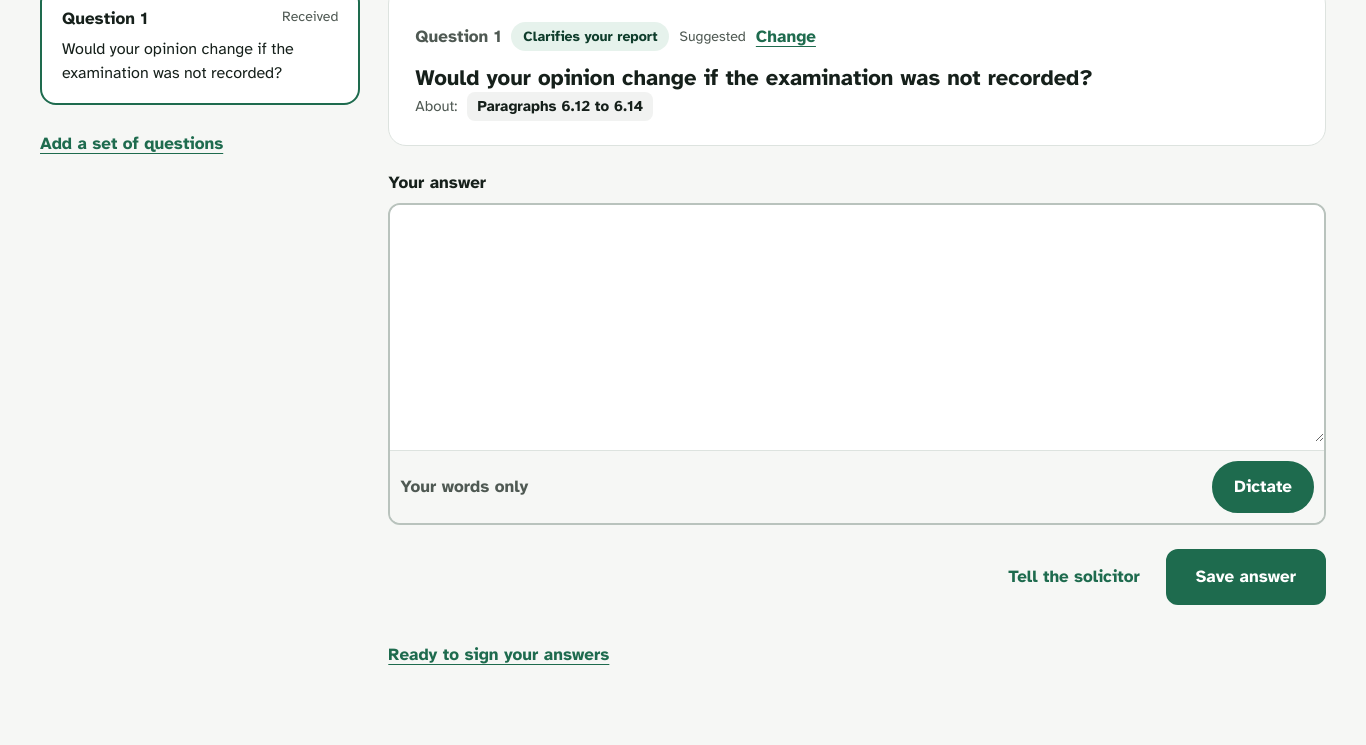
Scenario: the sign and add-a-set forms stay out of sight until asked for
The width and height of the screenshot is (1366, 745).
(page scrolled)
Expected: the button "Save answer" is shown, [1166,549,1326,605]
Click the button "Ready to sign your answers" at (499, 655), box [388,629,609,681]
(page scrolled)
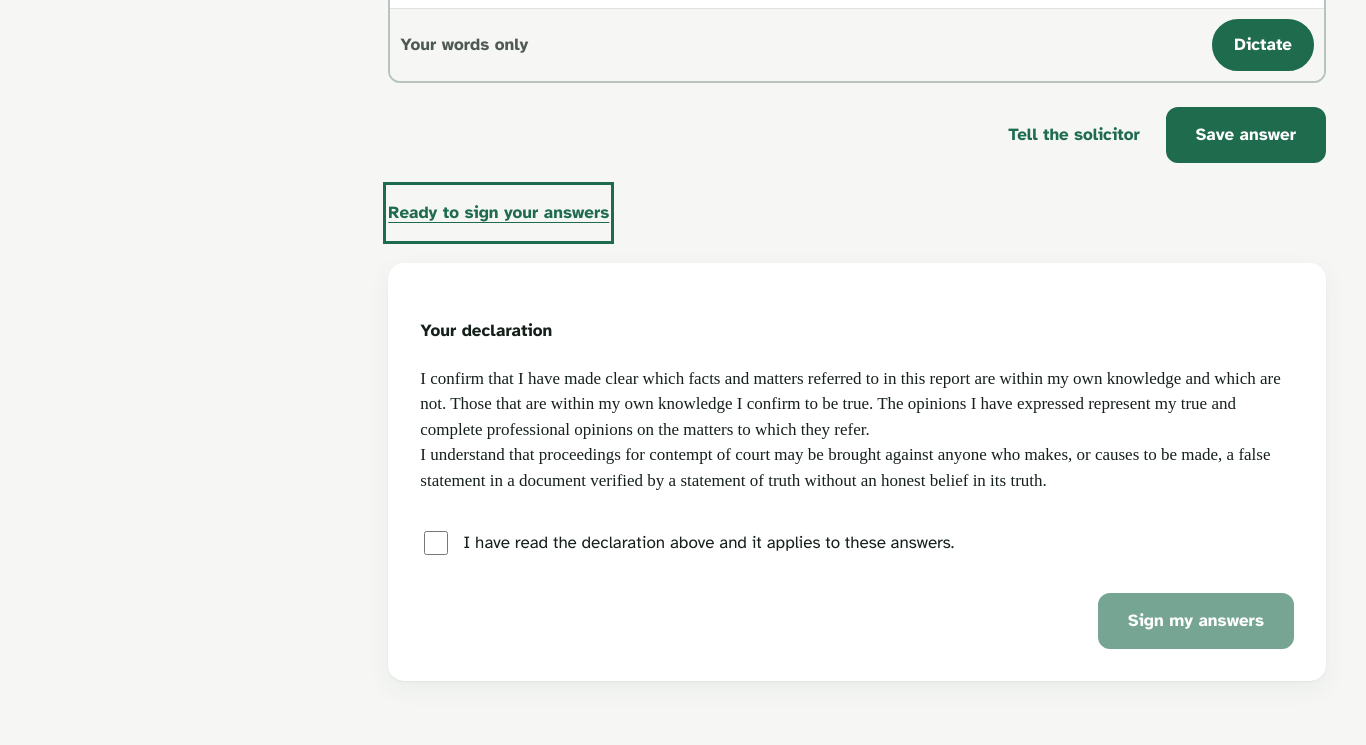
Result: the checkbox is shown at [424,531,448,555]
